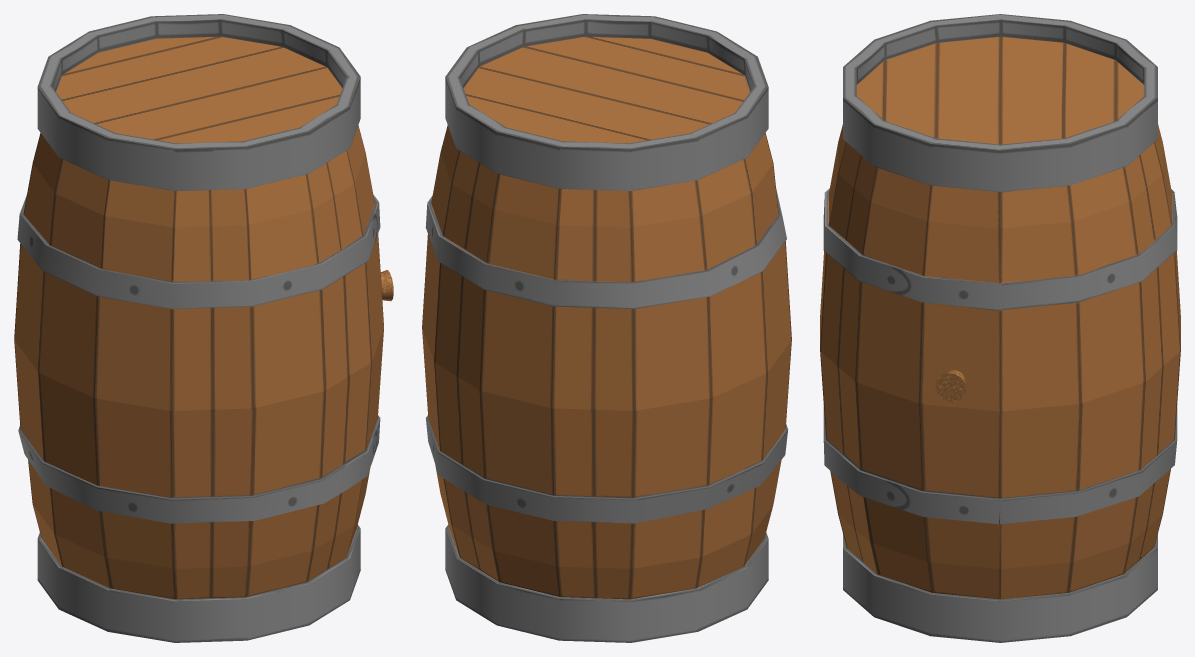
The model's file is Barrel.glb.
3 views of the same model, side by side, from view 1: azimuth 30°, elevation 25°; view 2: azimuth 150°, elevation 25°; view 3: azimuth 270°, elevation 25° (orthographic).
Visible parts, largest first — view 1: Barrel; view 2: Barrel; view 3: Barrel, thing.
Part boxes in pixels (x1=…): Barrel: x1=14, y1=14, x2=383, y2=642; Barrel: x1=422, y1=14, x2=791, y2=642; Barrel: x1=820, y1=14, x2=1180, y2=642; thing: x1=935, y1=370, x2=965, y2=401.
Size of the model in its own units: 0.3974 by 0.5708 by 0.3791.
2 materials, 2 textured.
